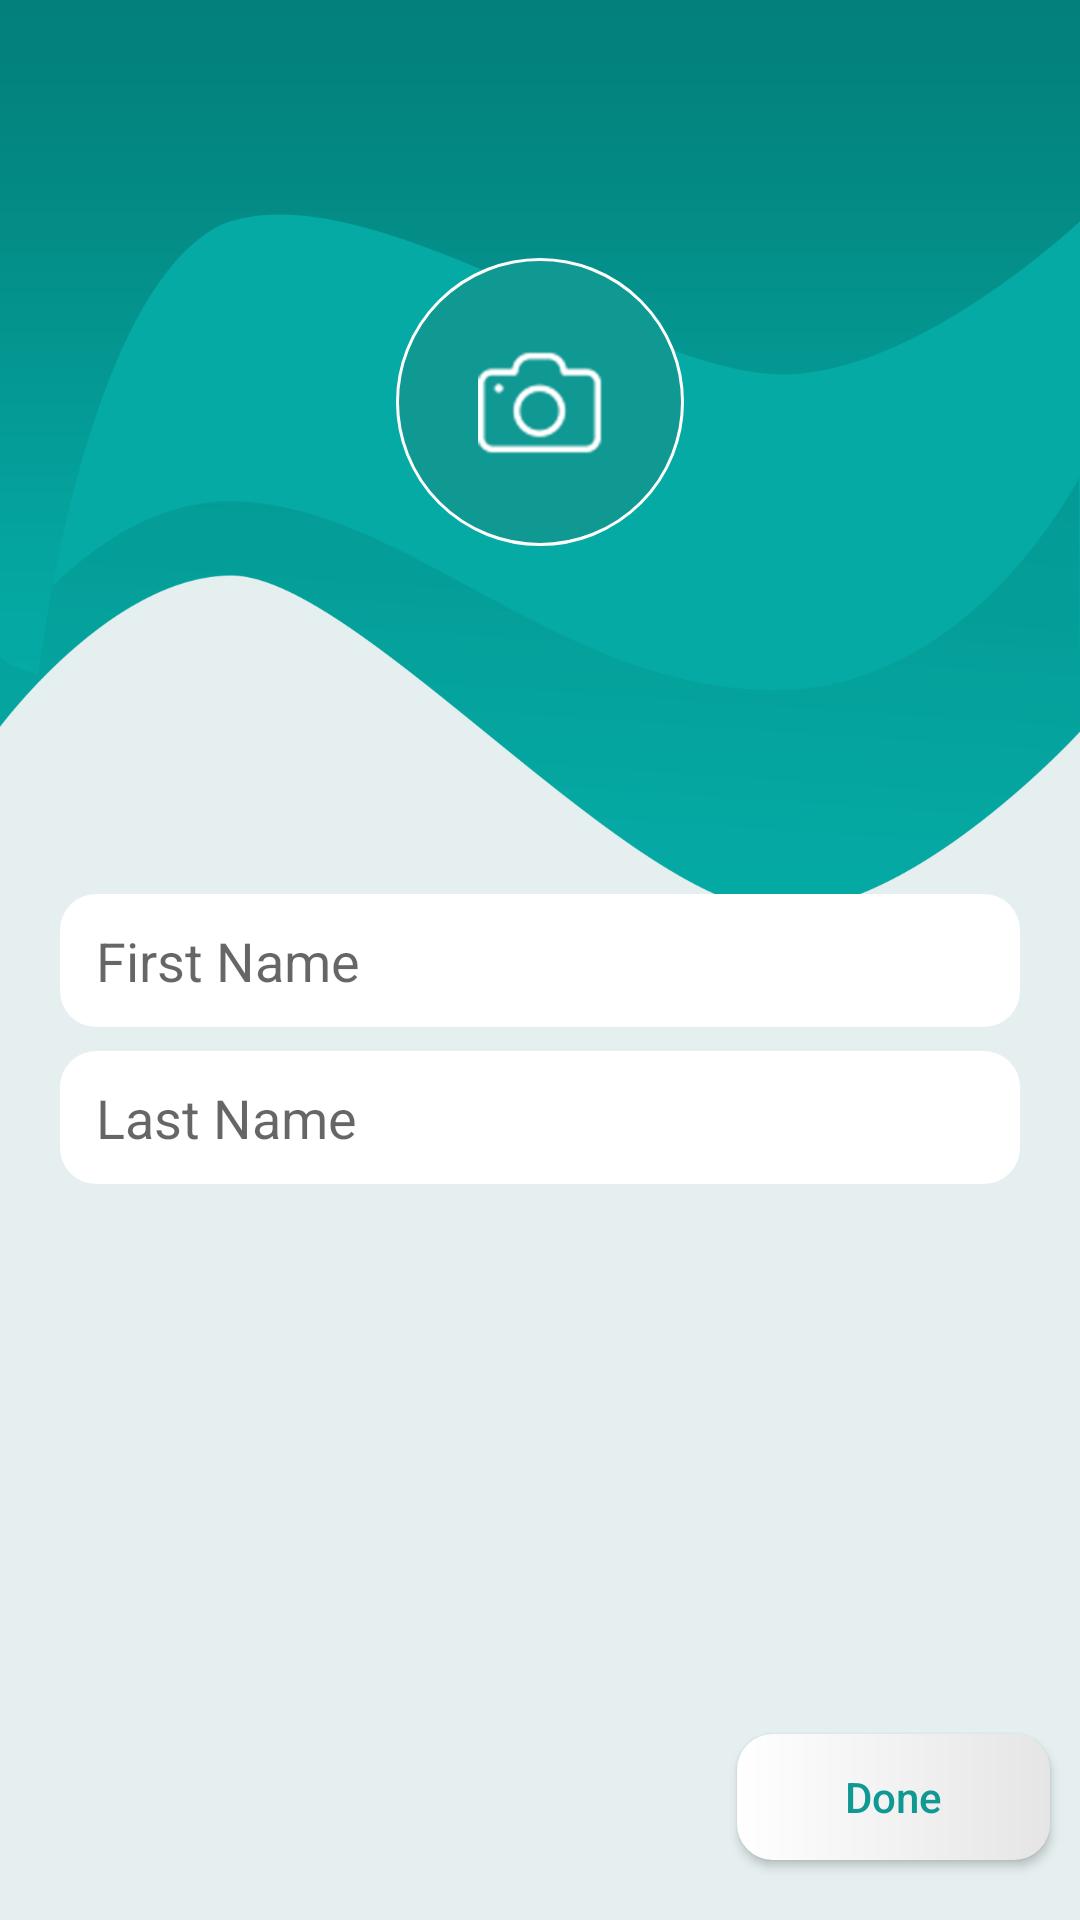

Icons on this 1080w x 1920h Android screen, each with the point to tap as [x,y]:
but profile photo: [540,402]
